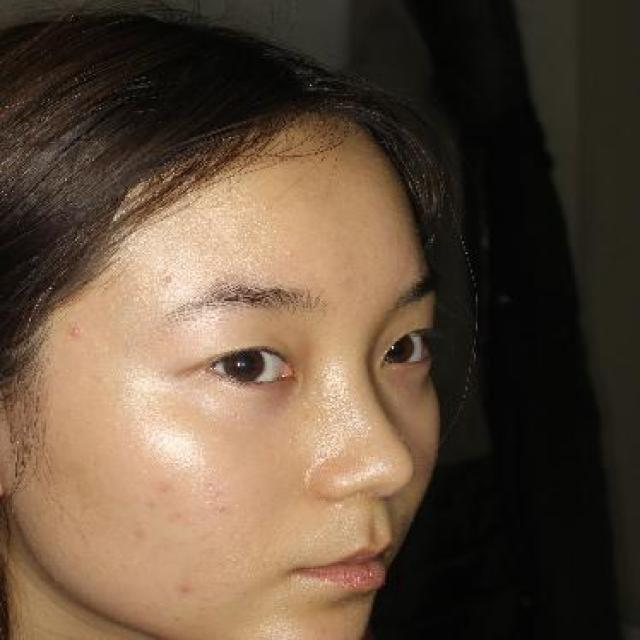blackheads: (210, 501, 231, 514)
dark spot: (154, 480, 173, 497), (173, 581, 193, 597)
pustules: (67, 321, 84, 337)
whiteheads: (157, 272, 178, 286)
